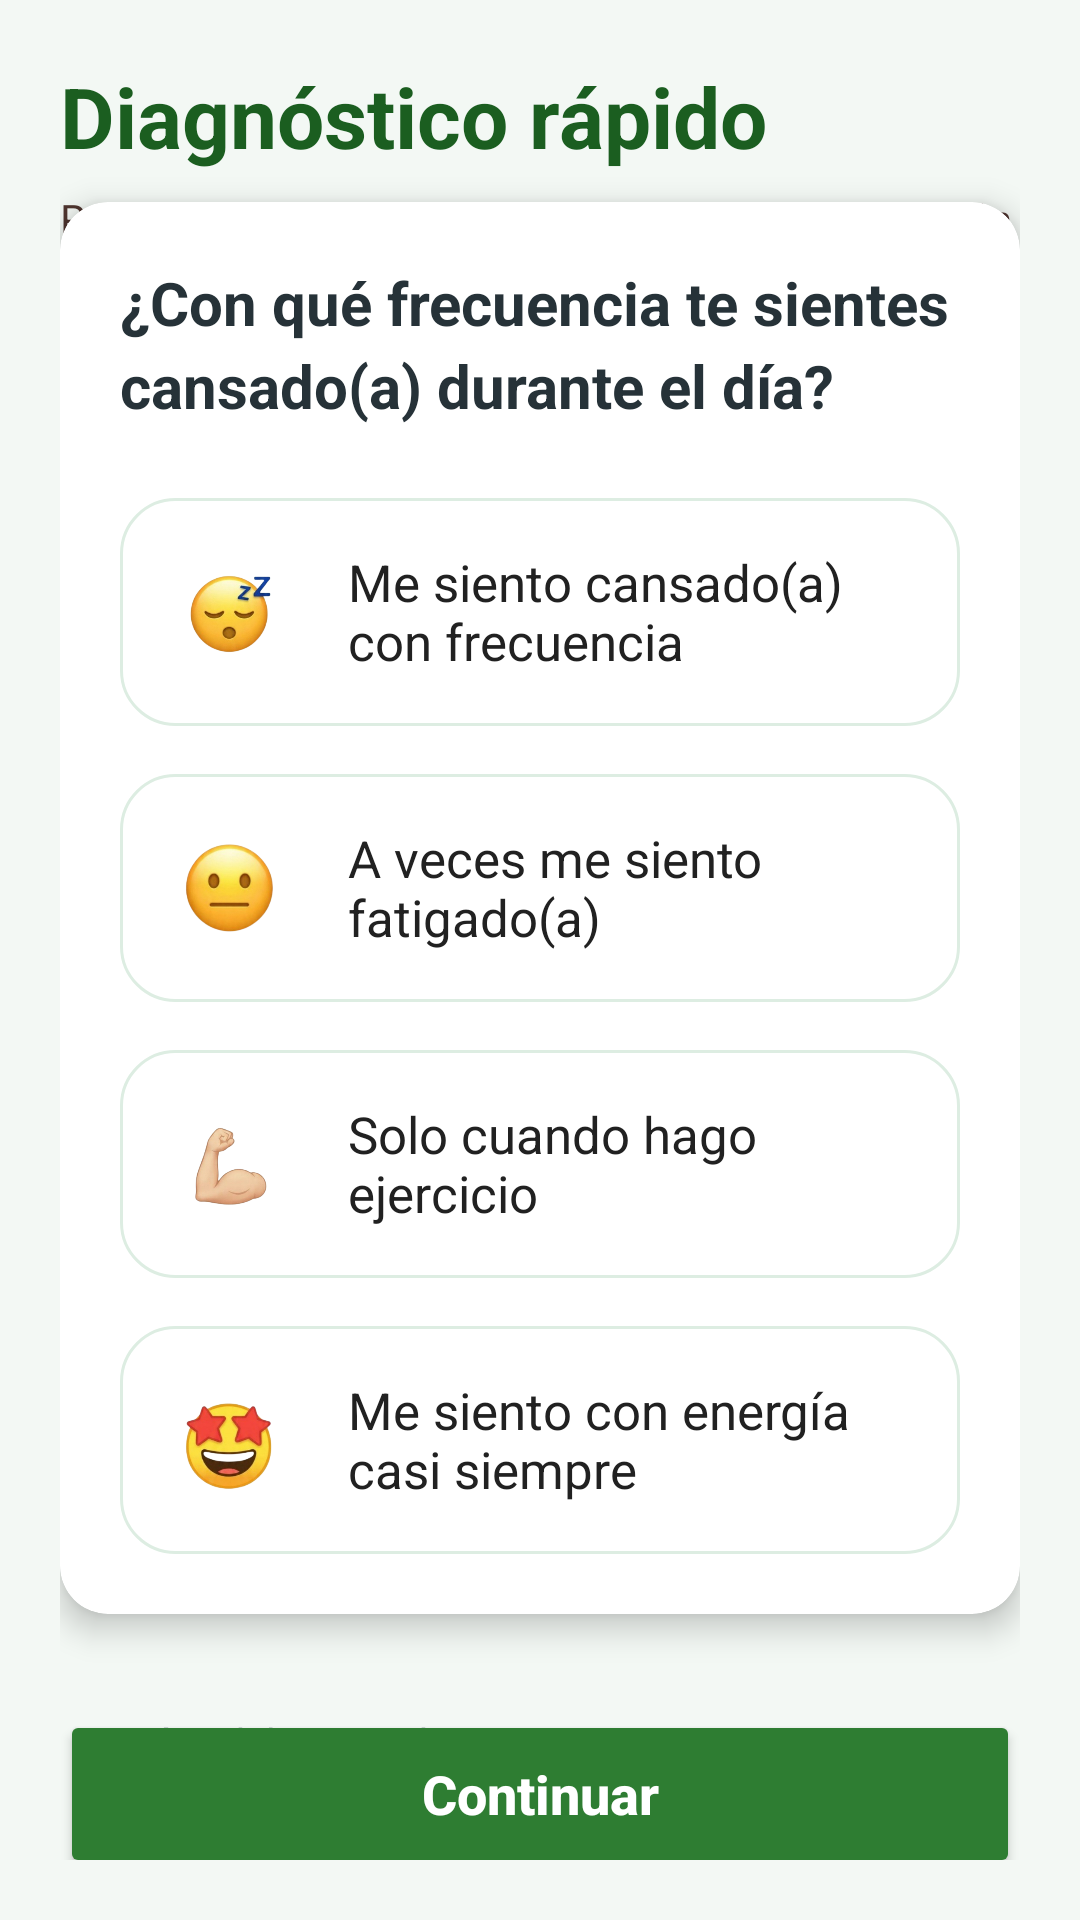

Icon click points for this 1080 x 1920 phone screenshot, format [x,y]:
emoji con energia: [229,1446]
emoji ejercicio: [231,1166]
emoji super cansado: [230,614]
